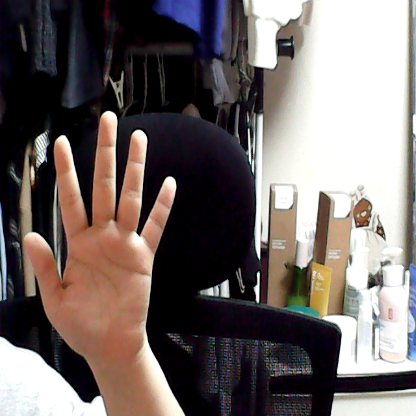Finger_5: (20, 100, 188, 367)
